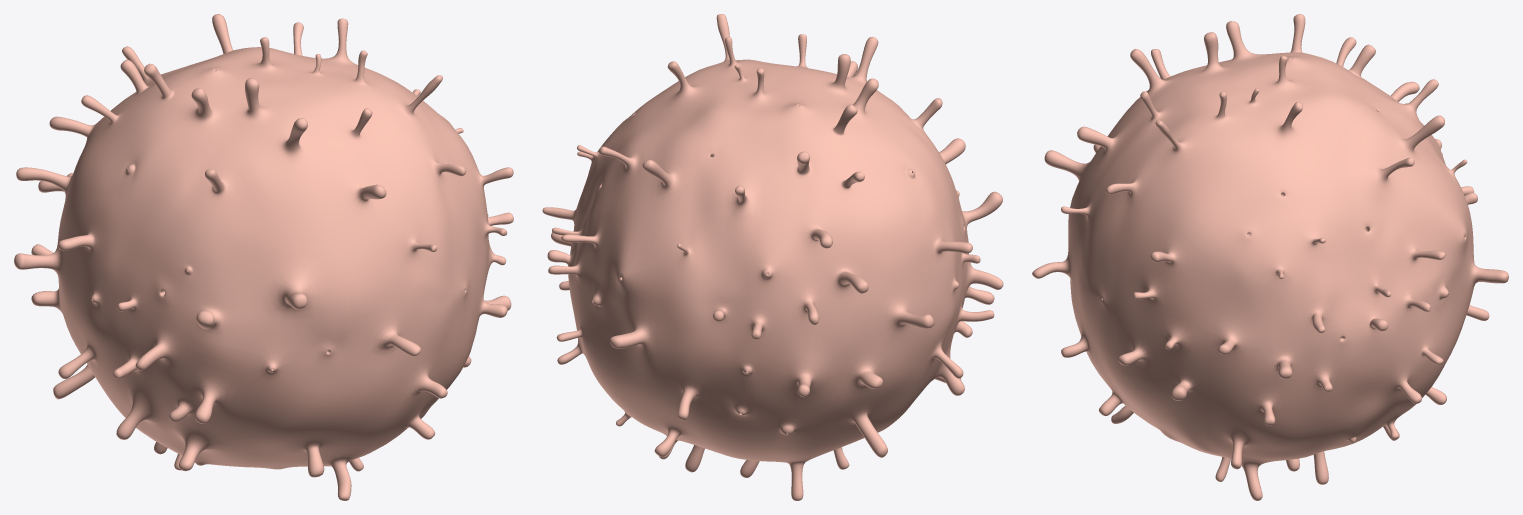
File: cell_membrane_closed.fbx
The picture shows the model from 3 angles, left to right: view 1: azimuth 30°, elevation 25°; view 2: azimuth 150°, elevation 25°; view 3: azimuth 270°, elevation 25°; orthographic projection. The views are drawn at different scales.
Parts seen in each view (by area): view 1: Human_Cell; view 2: Human_Cell; view 3: Human_Cell.
Boxes of the visible parts, left/top/right/bottom form: Human_Cell: left=14, top=14, right=513, bottom=500; Human_Cell: left=542, top=14, right=1003, bottom=500; Human_Cell: left=1032, top=14, right=1508, bottom=500.
Bounding box in the file's own units: 4333 × 4112 × 4329.
